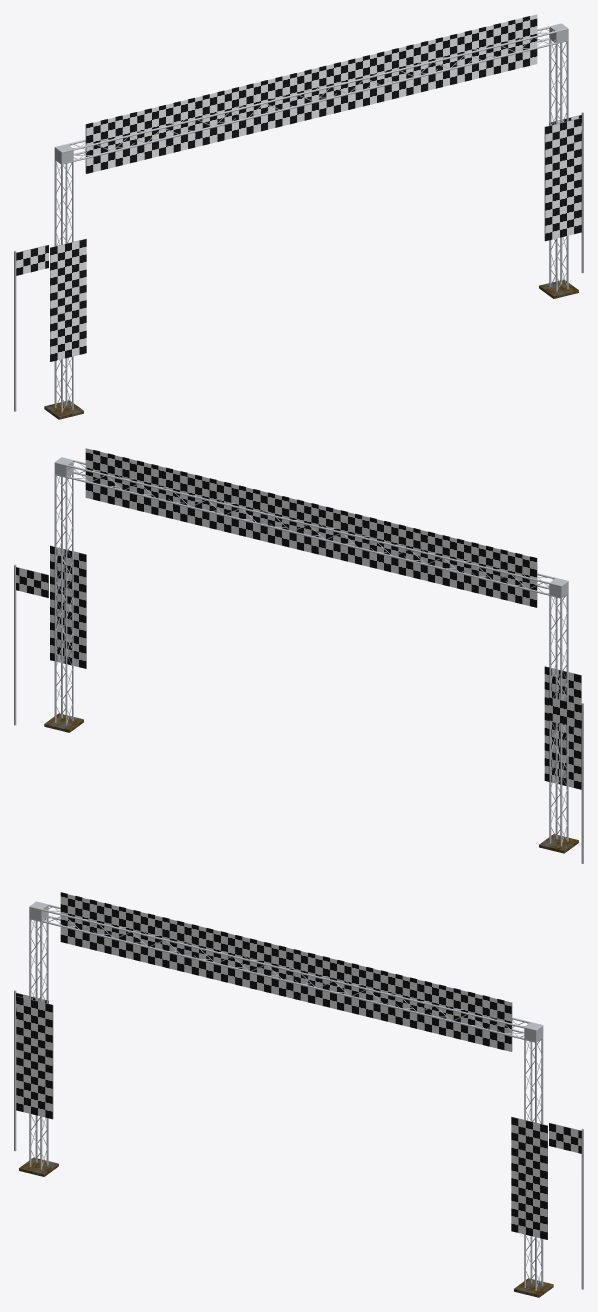
The model's file is finish_arch.glb.
3 views of the same model, one above another, from view 1: azimuth 30°, elevation 25°; view 2: azimuth 150°, elevation 25°; view 3: azimuth 330°, elevation 25° (orthographic).
Visible parts, largest first — view 1: finish_arch; view 2: finish_arch; view 3: finish_arch.
Boxes of the visible parts, <box> form: finish_arch: <box>14,14,583,419</box>; finish_arch: <box>14,448,583,863</box>; finish_arch: <box>14,892,583,1297</box>.
Size of the model in its own units: 15.66 by 7.4 by 0.98.
Materials: 1 (1 with a texture image).
